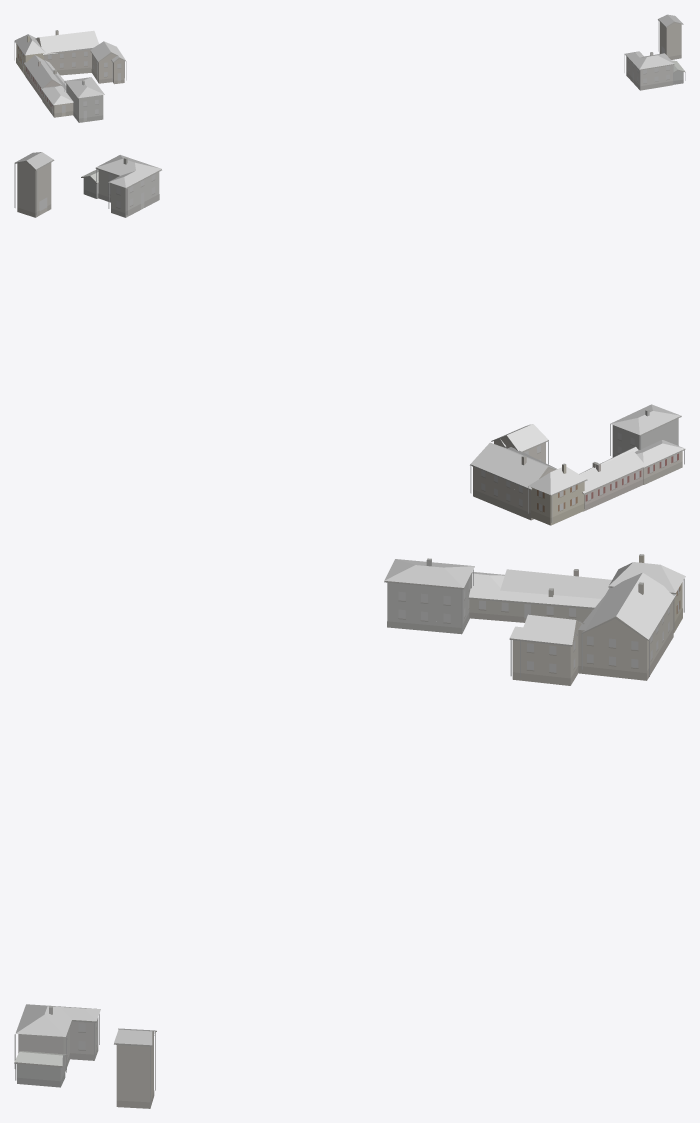
3 renders of one model, top to bottom at view 1: azimuth 30°, elevation 25°; view 2: azimuth 150°, elevation 25°; view 3: azimuth 270°, elevation 25°, orthographic. The views are drawn at different scales.
Parts seen in each view (by area): view 1: bld; view 2: bld; view 3: bld.
Boxes of the visible parts, x1,y1,x2,y2 form: bld: [14, 14, 685, 122]; bld: [14, 152, 685, 525]; bld: [14, 554, 685, 1108].
Size of the model in its own units: 165 by 12.86 by 93.71.
